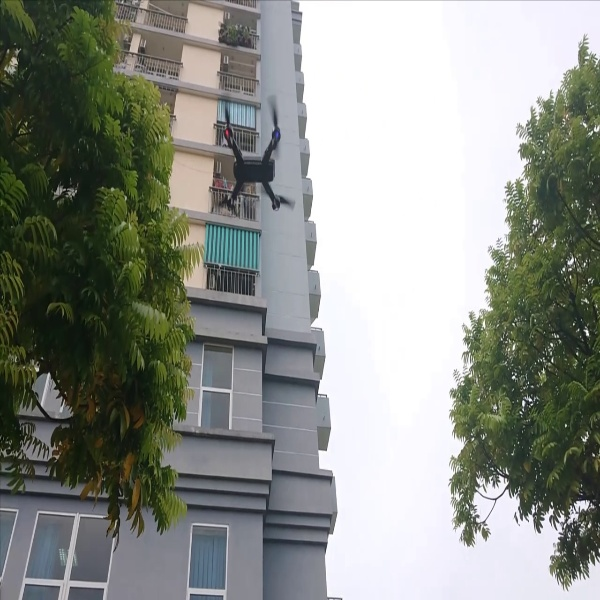drone: (205, 93, 295, 222)
